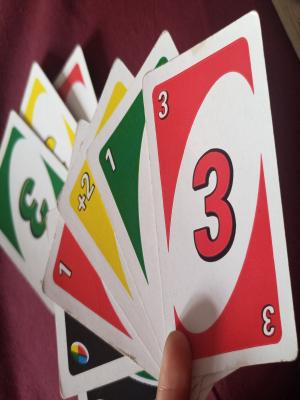-2: (74, 168, 99, 219)
colour: (66, 334, 92, 373)
num_1: (56, 255, 80, 287), (102, 140, 120, 181)
num_3: (16, 170, 55, 253), (154, 84, 173, 124)
